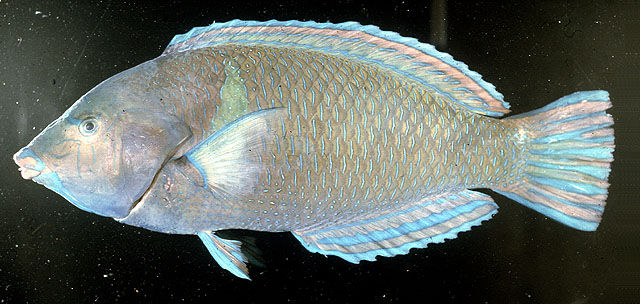fish: (10, 20, 616, 284)
